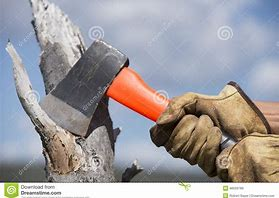axe: (37, 36, 243, 178)
